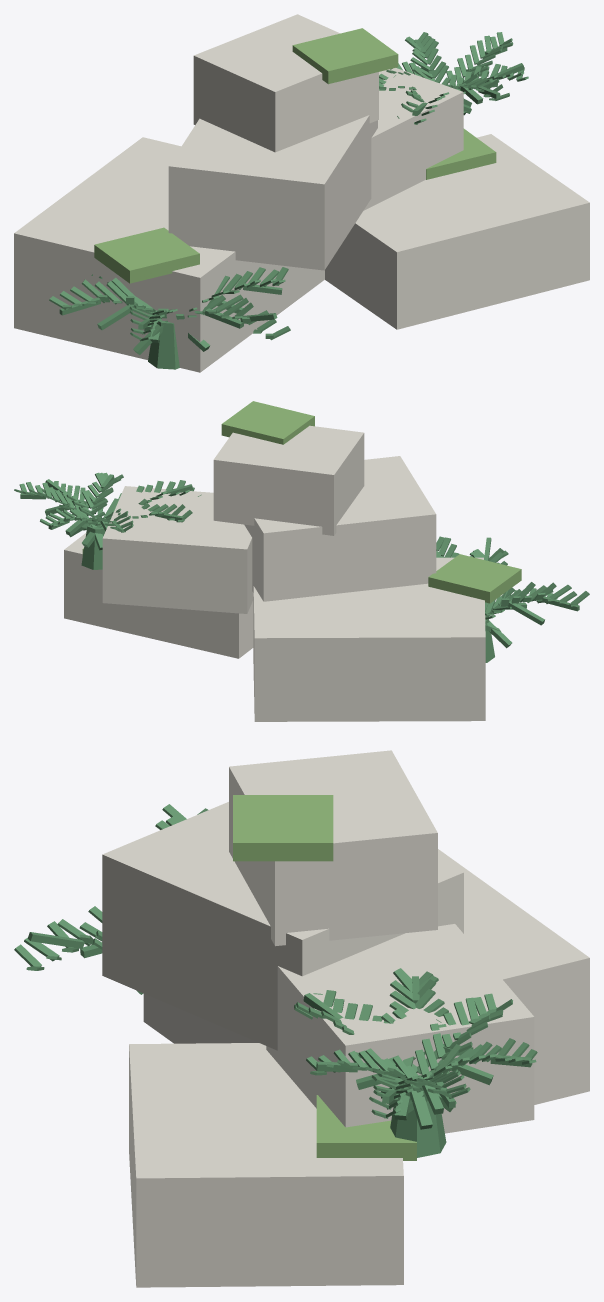
Rendered from botanical-glasshouse-and-palm-house-botanical-glasshou-0a53e156__38558.glb.
3 renders of one model, top to bottom at view 1: azimuth 30°, elevation 25°; view 2: azimuth 150°, elevation 25°; view 3: azimuth 270°, elevation 25°, orthographic. The views are drawn at different scales.
Parts seen in each view (by area): view 1: botanical-glasshouse-and-palm-house-rockery-outcrop; view 2: botanical-glasshouse-and-palm-house-rockery-outcrop; view 3: botanical-glasshouse-and-palm-house-rockery-outcrop.
Part boxes in pixels (<box>): botanical-glasshouse-and-palm-house-rockery-outcrop: <box>14,14,589,372</box>; botanical-glasshouse-and-palm-house-rockery-outcrop: <box>14,401,589,721</box>; botanical-glasshouse-and-palm-house-rockery-outcrop: <box>14,750,589,1287</box>.
Bounding box in the file's own units: 2.66 × 1.11 × 1.72.
